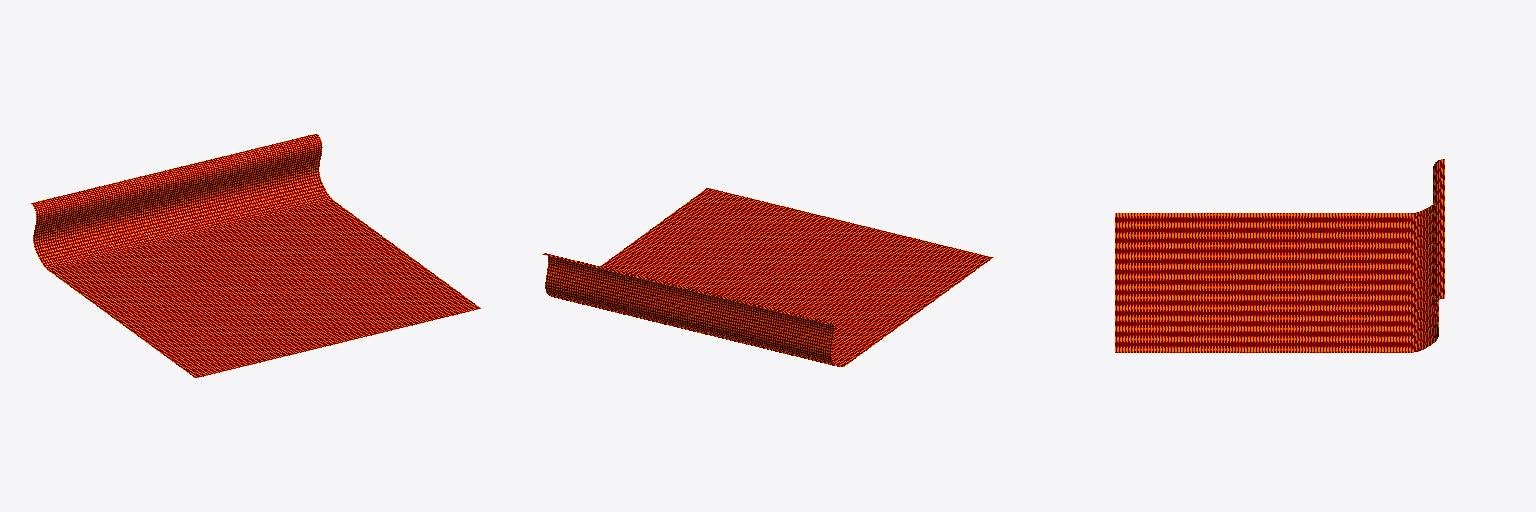
The picture shows the model from 3 angles: view 1: azimuth 30°, elevation 25°; view 2: azimuth 150°, elevation 25°; view 3: azimuth 270°, elevation 25°; orthographic projection.
Parts seen in each view (by area): view 1: Plane; view 2: Plane; view 3: Plane.
Boxes of the visible parts, box(x1,y1,x2,y2) form: Plane: box(31, 134, 480, 377); Plane: box(542, 188, 993, 366); Plane: box(1115, 159, 1444, 352).
Bounding box in the file's own units: 900 × 163 × 900.
1 materials, 1 textured.